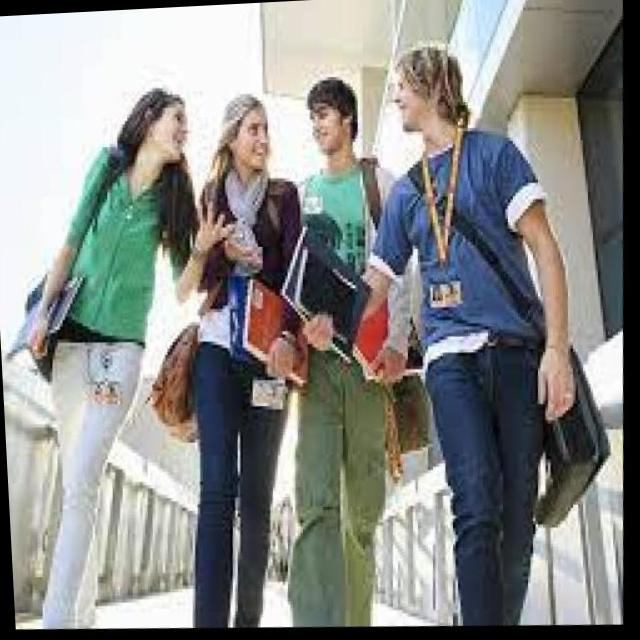id_card: (412, 126, 477, 310)
